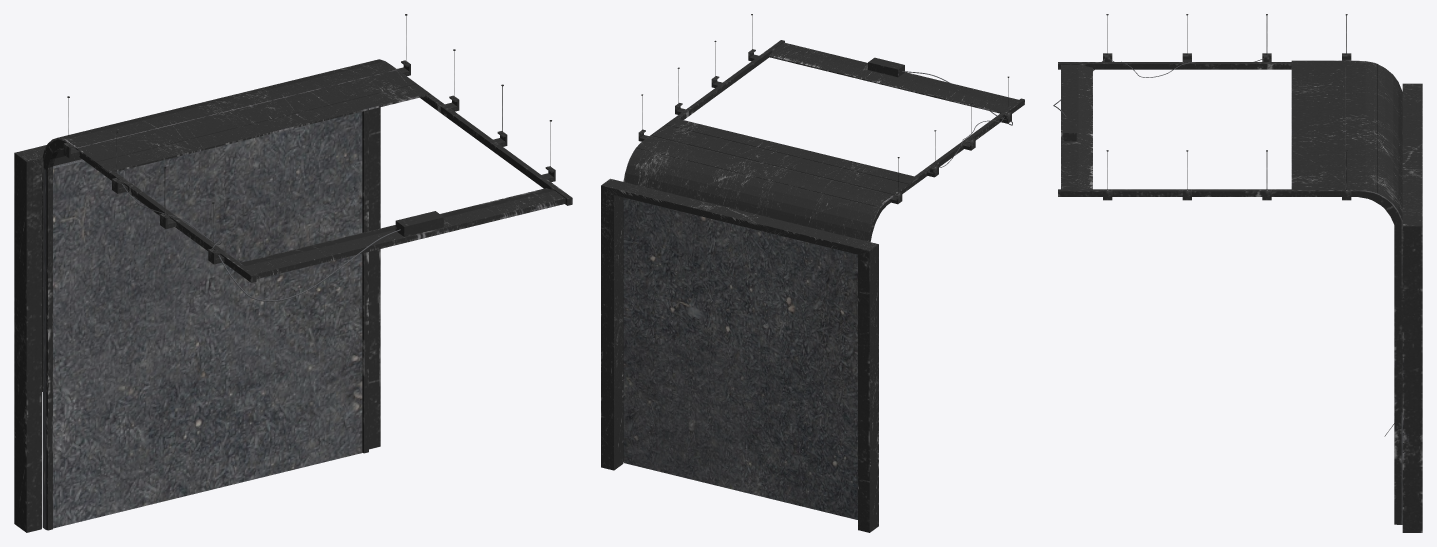
Rendered from abu.fbx.
The picture shows the model from 3 angles, left to right: view 1: azimuth 30°, elevation 25°; view 2: azimuth 150°, elevation 25°; view 3: azimuth 270°, elevation 25°; orthographic projection. The views are drawn at different scales.
Visible parts, largest first — view 1: SmallGateVar1; view 2: SmallGateVar1; view 3: SmallGateVar1.
Boxes of the visible parts, left/top/right/bottom form: SmallGateVar1: left=14, top=14, right=572, bottom=532; SmallGateVar1: left=601, top=14, right=1024, bottom=532; SmallGateVar1: left=1053, top=14, right=1422, bottom=532.
Size of the model in its own units: 399 by 494 by 437.
